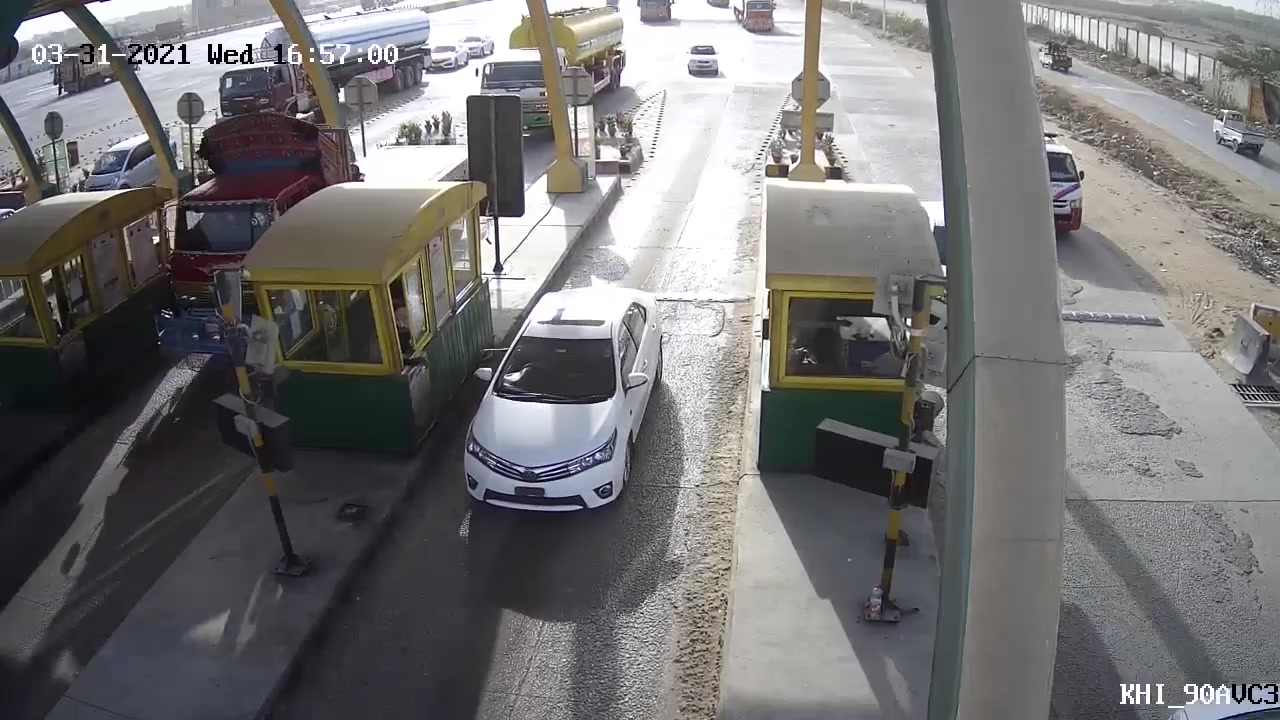F1: (447, 278, 669, 522)
